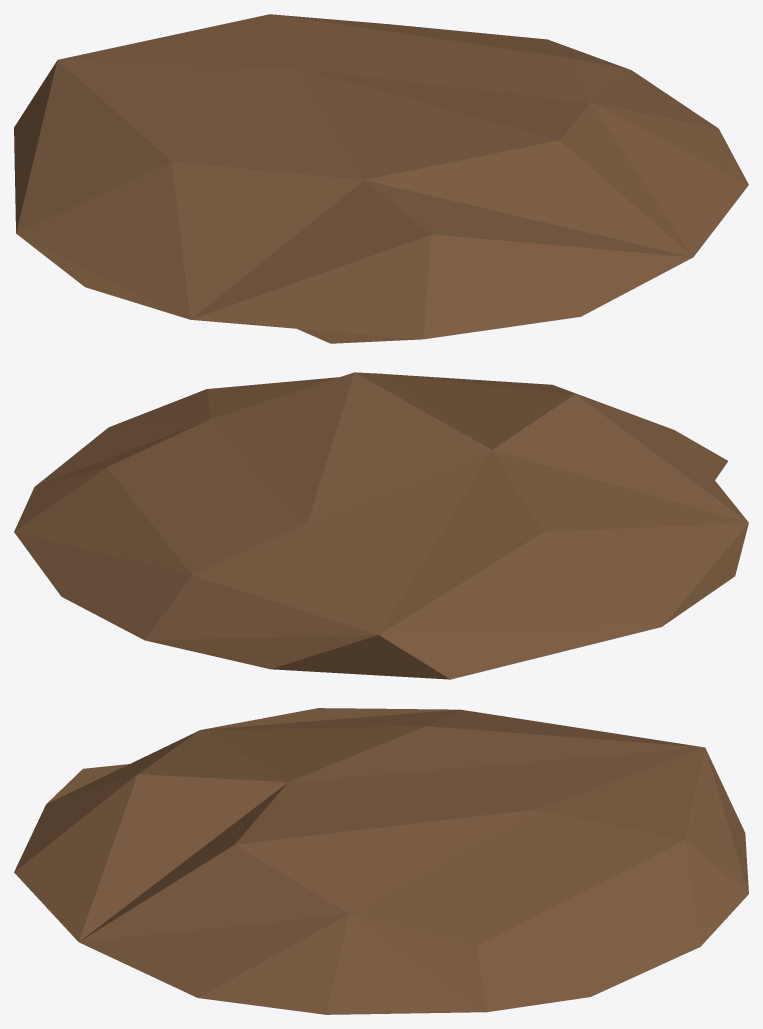
The model's file is SM_Prop_Pot_Large_Soup_03.glb.
3 views of the same model, one above another, from view 1: azimuth 30°, elevation 25°; view 2: azimuth 150°, elevation 25°; view 3: azimuth 270°, elevation 25° (orthographic). The views are drawn at different scales.
Visible parts, largest first — view 1: SM_Prop_Pot_Large_Soup_03; view 2: SM_Prop_Pot_Large_Soup_03; view 3: SM_Prop_Pot_Large_Soup_03.
Boxes of the visible parts, left/top/right/bottom form: SM_Prop_Pot_Large_Soup_03: left=14, top=14, right=748, bottom=343; SM_Prop_Pot_Large_Soup_03: left=14, top=372, right=748, bottom=679; SM_Prop_Pot_Large_Soup_03: left=14, top=708, right=748, bottom=1014.
Size of the model in its own units: 1.11 by 0.121 by 1.13.
1 material, 1 textured.
